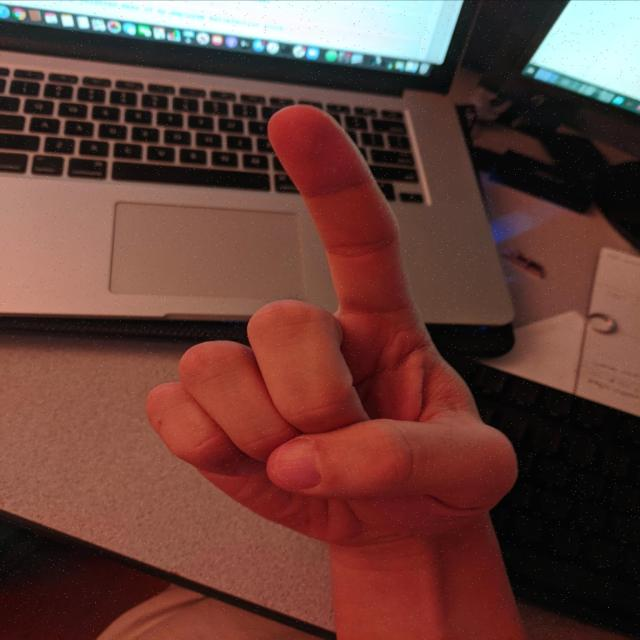D: (137, 98, 532, 555)
